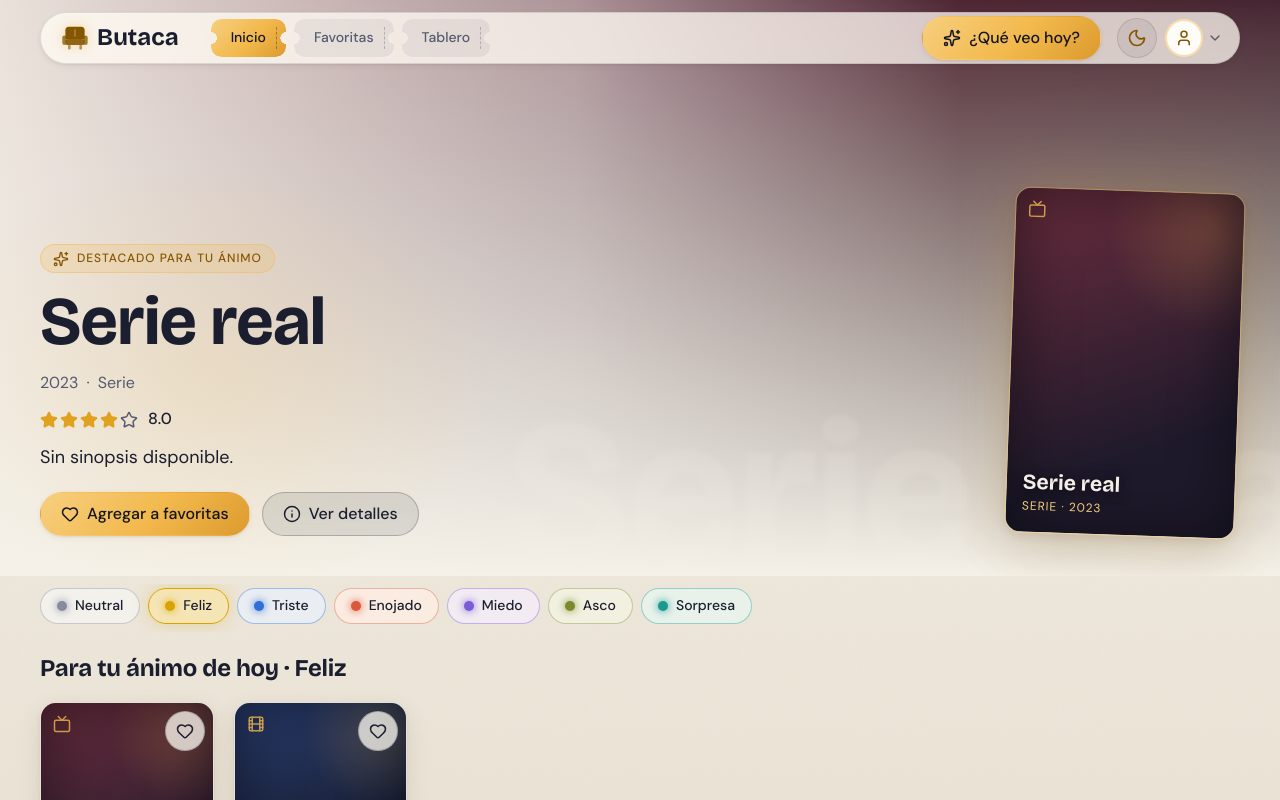
Test: con sesión iniciada › cada chip pide al backend las recomendaciones de esa emoción
The image size is (1280, 800).
Expected: the heading "Para tu ánimo de hoy · Feliz" is shown, 40,656 -> 346,682
Step 1. Click the button with test id "filtro-animo-sad" → (281, 606), box 237,588 -> 326,624
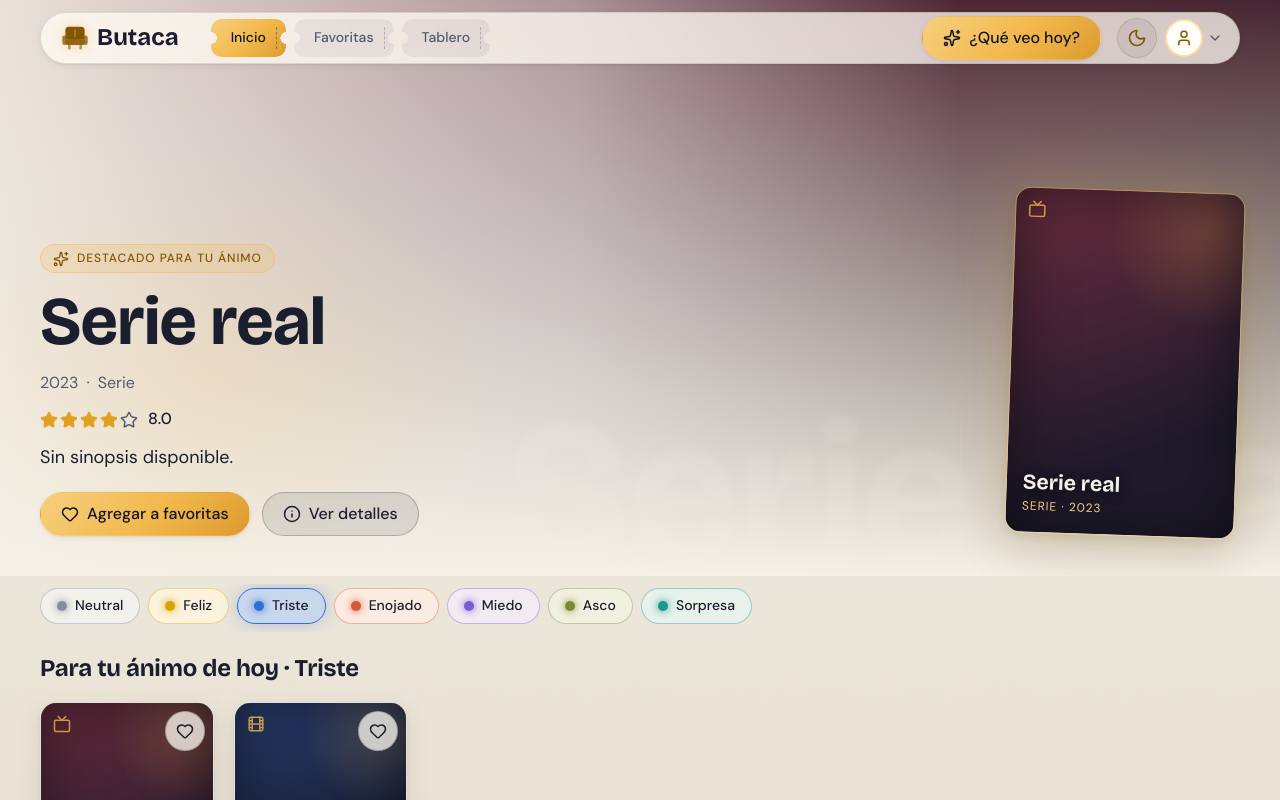
Expected: the heading "Para tu ánimo de hoy · Triste" is shown, 40,656 -> 359,682
